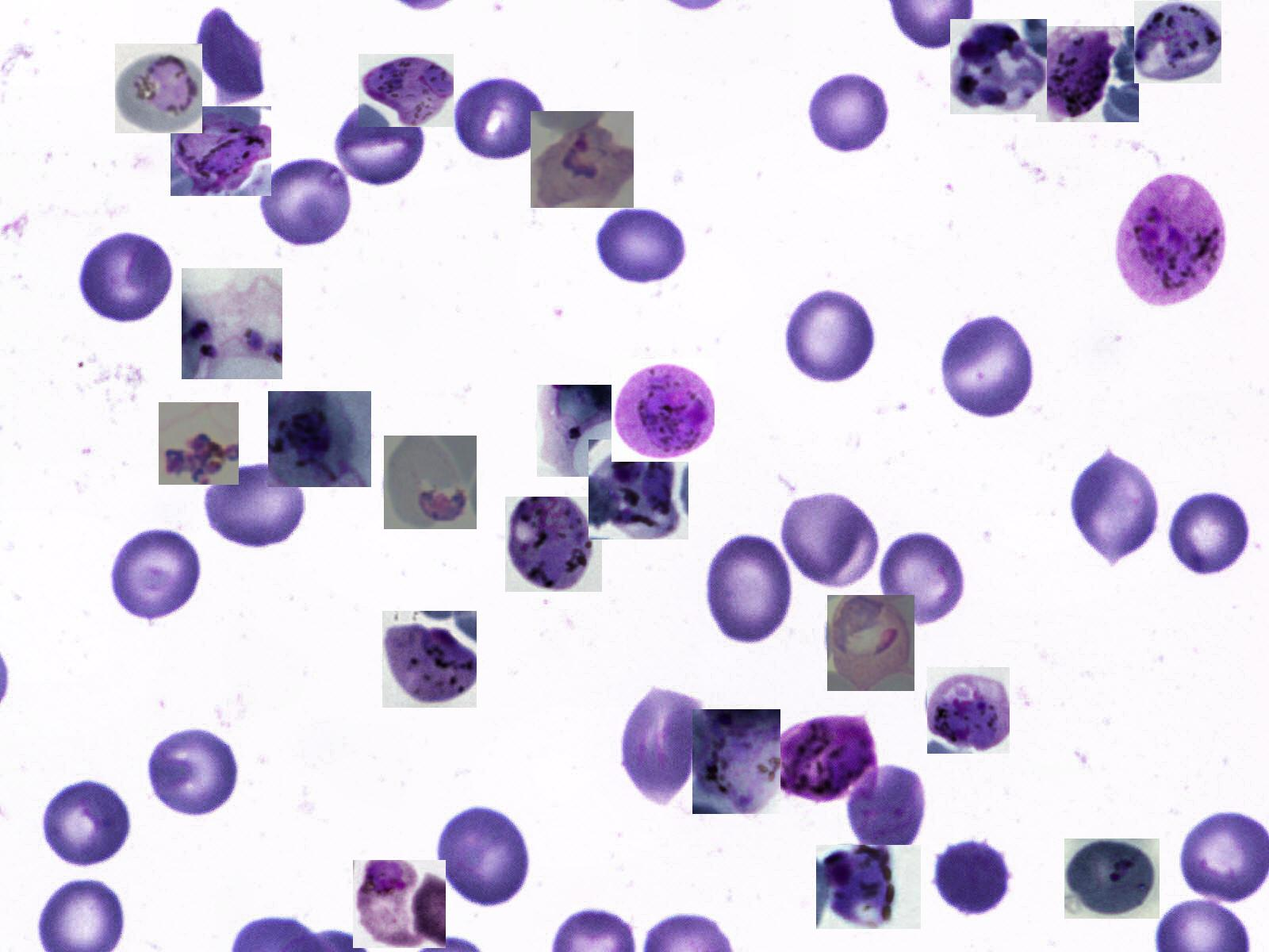Infected: (1113, 171, 1228, 309), (182, 268, 282, 379), (768, 710, 882, 807), (612, 359, 715, 462), (531, 111, 634, 208), (588, 440, 688, 539), (268, 391, 371, 487), (1036, 26, 1139, 122), (692, 709, 780, 814), (950, 19, 1047, 114), (505, 497, 602, 592), (382, 611, 477, 708), (171, 106, 271, 196), (816, 845, 921, 929), (537, 385, 632, 477), (384, 436, 477, 529), (827, 595, 914, 691), (353, 860, 446, 948), (115, 44, 202, 133), (1064, 839, 1160, 919), (927, 667, 1010, 754), (1134, 1, 1221, 83), (358, 54, 454, 127), (159, 402, 239, 485)
Uninfected: (935, 311, 1041, 424), (703, 525, 795, 650), (776, 488, 885, 589), (432, 805, 535, 908), (198, 460, 307, 555), (621, 685, 705, 807), (1072, 451, 1161, 562), (784, 285, 880, 387), (873, 529, 970, 628), (110, 524, 205, 625), (78, 227, 175, 325), (256, 155, 357, 248), (331, 97, 433, 189), (145, 725, 238, 818), (451, 71, 546, 162), (41, 779, 134, 868), (594, 204, 692, 286), (845, 764, 930, 858), (807, 67, 895, 155), (1167, 489, 1253, 576), (197, 10, 263, 106), (931, 836, 1009, 916)
